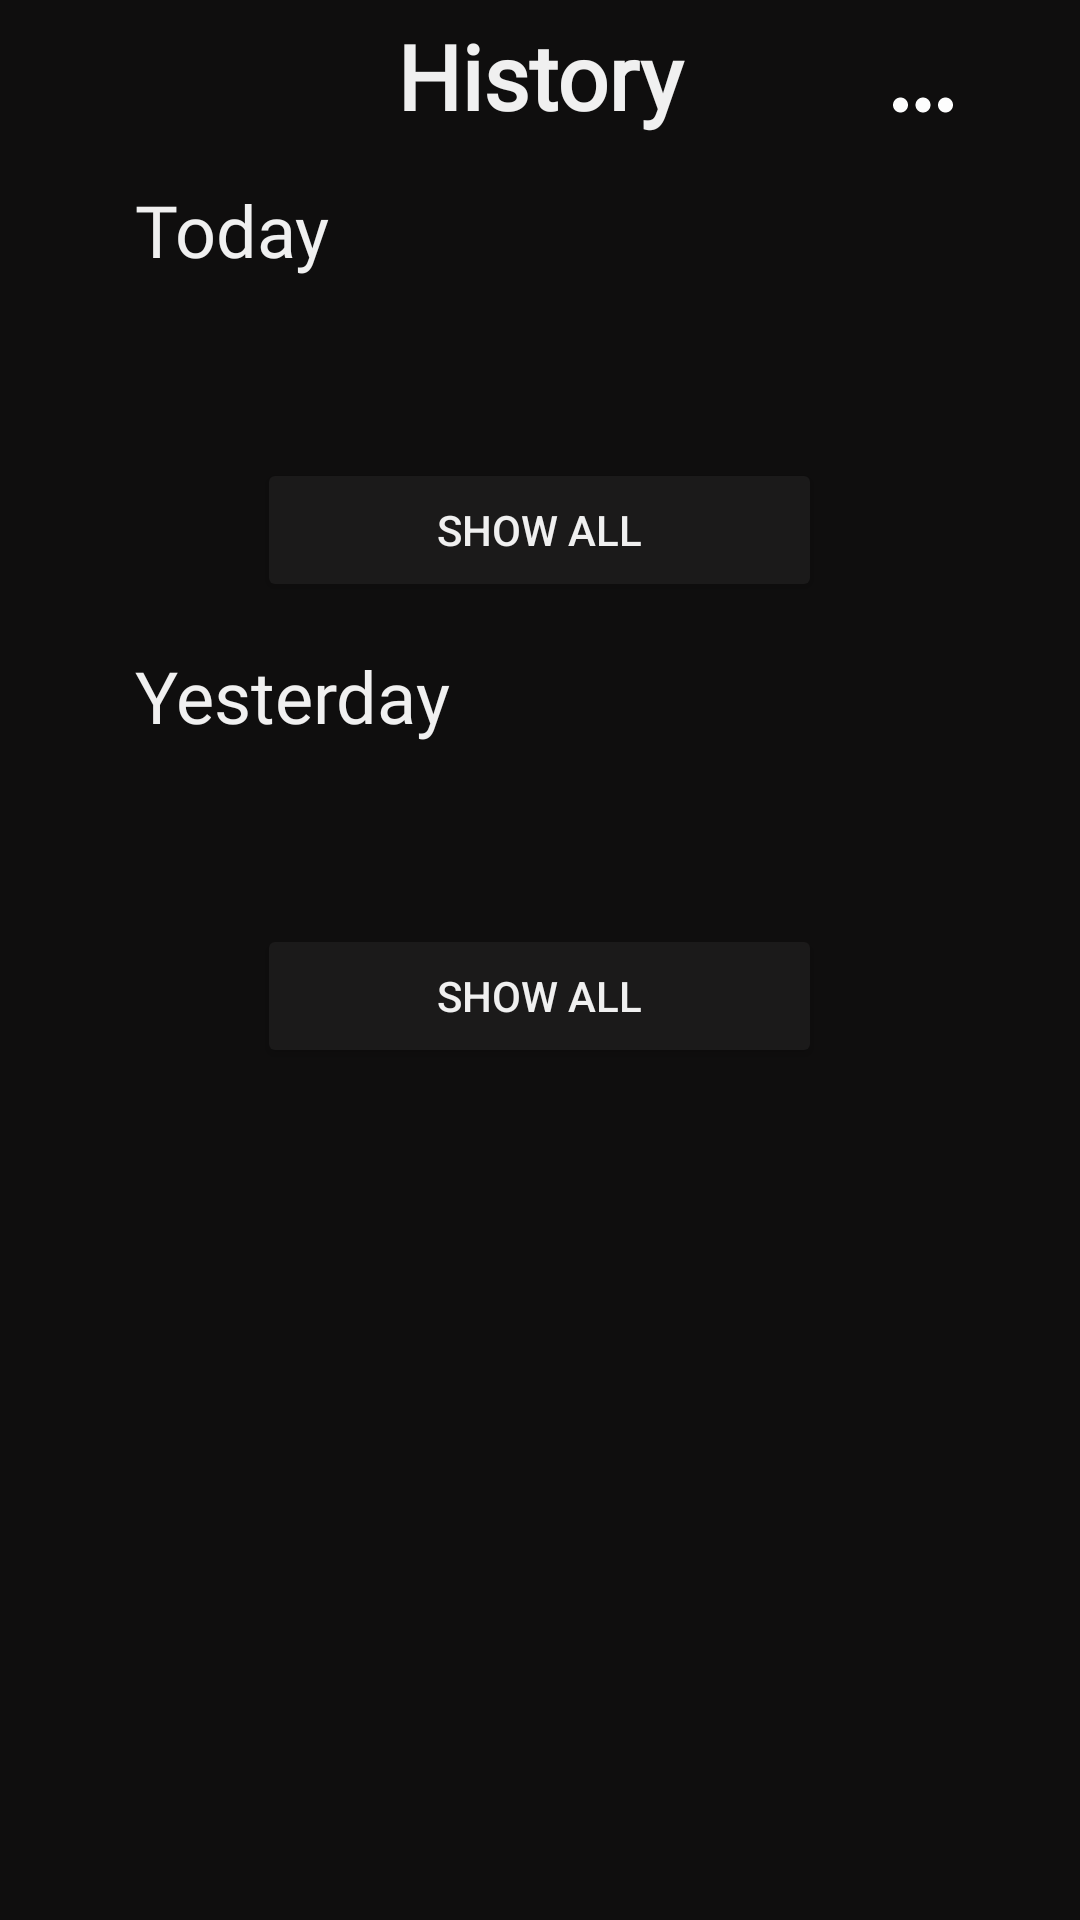

Named icons in this screenshot (1080w x 1920h) and their centers, point (x, y):
more horiz: point (923, 105)
